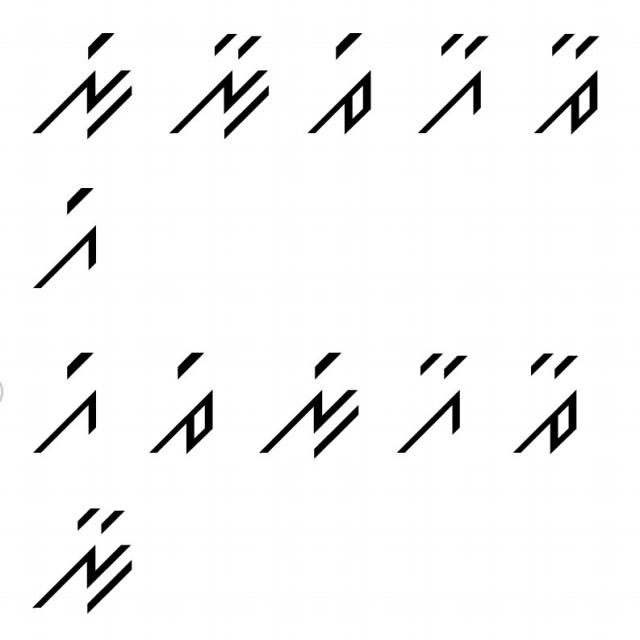gan: (389, 344, 475, 464), (413, 24, 498, 143)
gang: (28, 178, 102, 298), (27, 347, 101, 459)
ngan: (162, 26, 282, 146), (21, 495, 136, 617)
ngang: (21, 22, 139, 150), (246, 344, 367, 458)
tan: (503, 342, 591, 462), (532, 26, 603, 142)
tang: (296, 26, 392, 138), (138, 341, 224, 462)
